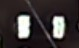COMP: (12, 10, 68, 42)
STAN: (30, 2, 55, 48), (33, 13, 49, 38), (37, 16, 45, 33), (47, 36, 58, 47), (26, 1, 38, 11)
